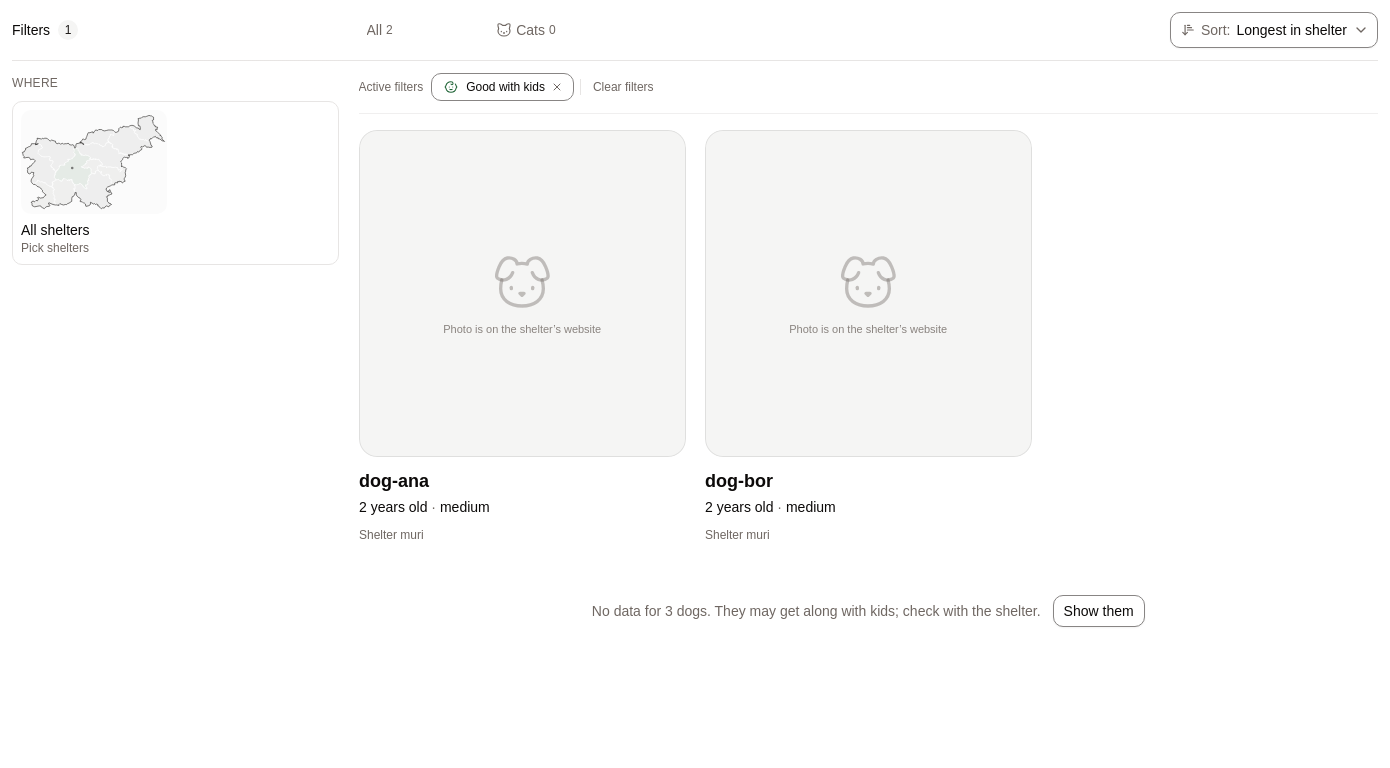
Test case: the band's words › speaks English on the English page
expect the text "No data for 3 dogs. They may get along with kids; check with the shelter." is shown: met, box [592,600,1041,620]
Click the button "Show them". click: click(1099, 610)
box: [1053,594,1145,626]
(page scrolled)
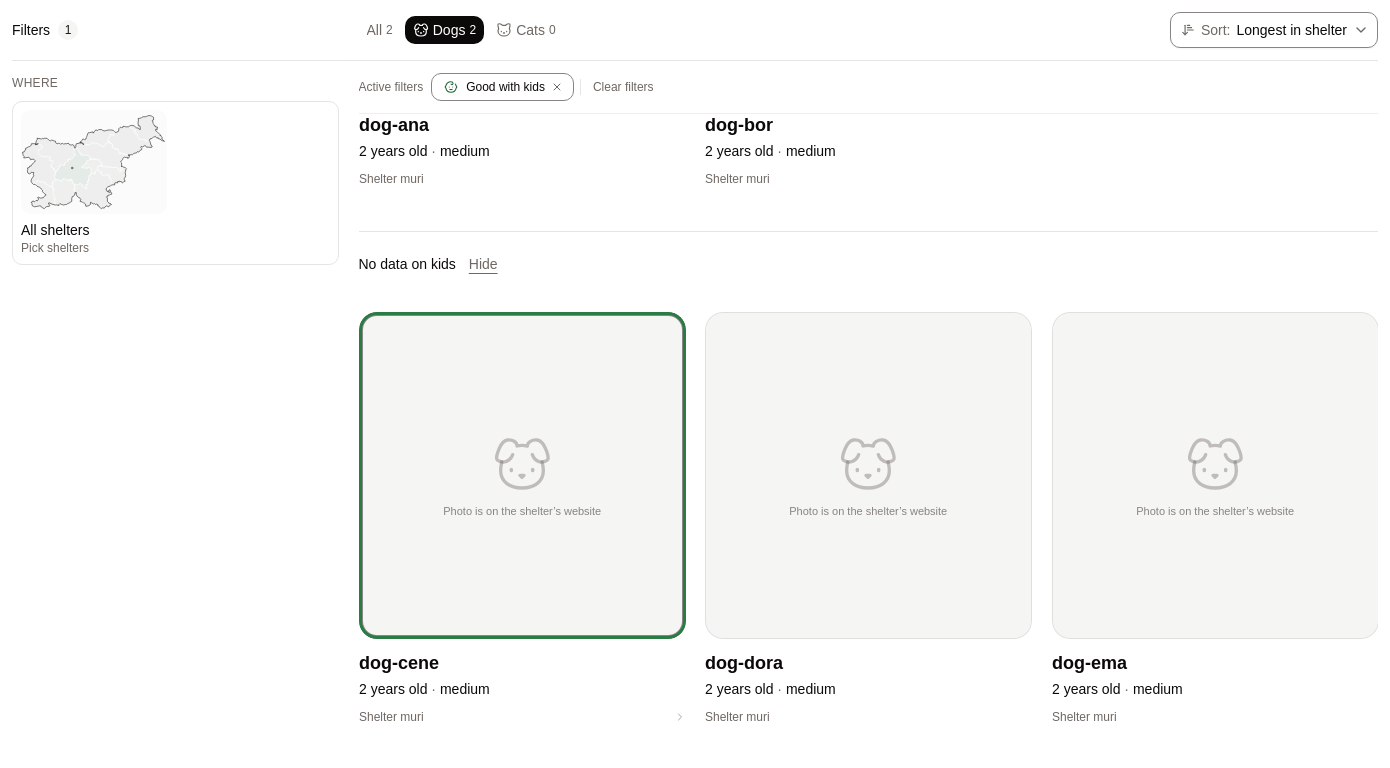
expect the heading "No data on kids" is shown: met, box [358,254,456,274]
expect the button "Hide" is shown: met, box [468,248,499,280]
